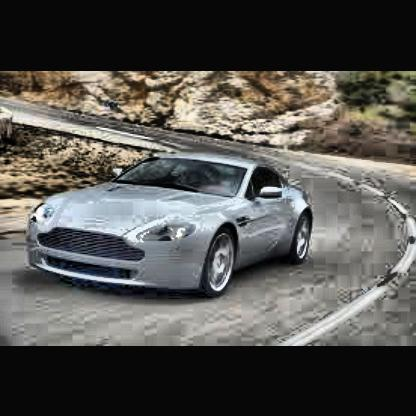Aston Martin V8 Vantage Coupe 2012: (27, 153, 320, 308)
